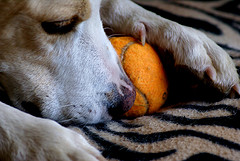tennis ball: (106, 34, 169, 116)
